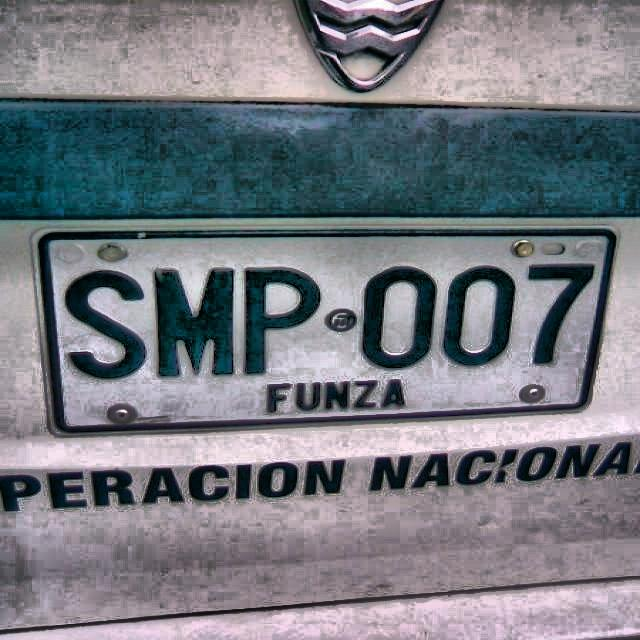plate: (40, 235, 612, 429)
